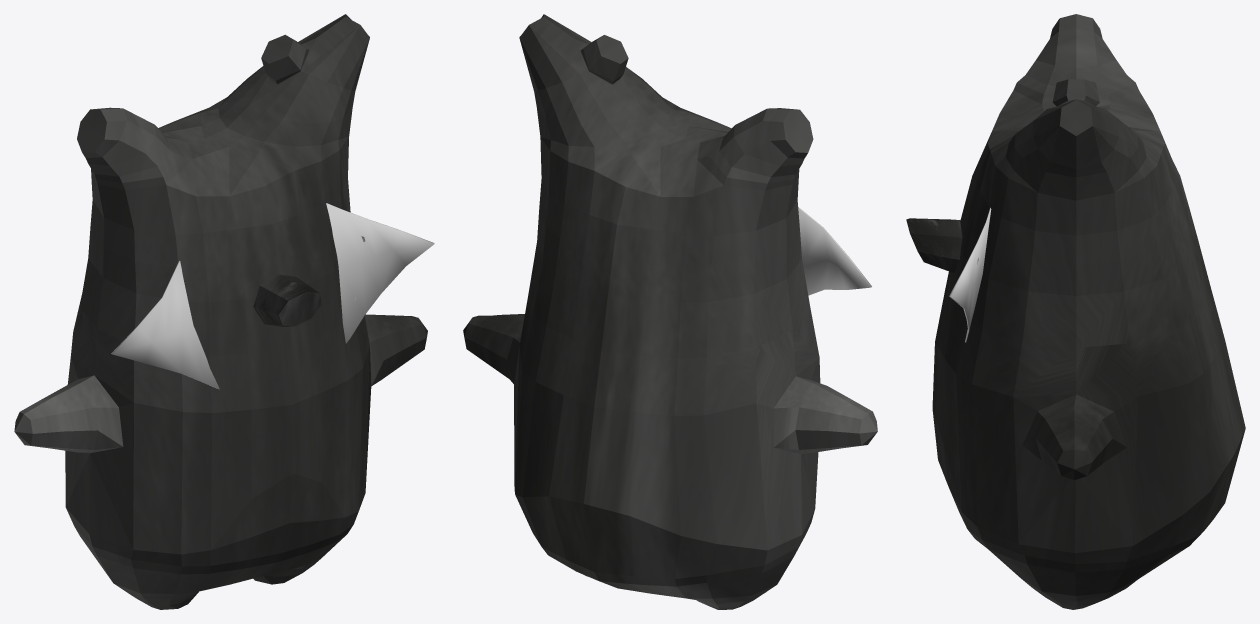
Rendered from frame_0001.obj.
The picture shows the model from 3 angles, left to right: view 1: azimuth 30°, elevation 25°; view 2: azimuth 150°, elevation 25°; view 3: azimuth 270°, elevation 25°; orthographic projection.
Parts seen in each view (by area): view 1: korok, leaf, nose; view 2: korok, leaf; view 3: korok, nose, leaf.
Part boxes in pixels (x1,y1,x2,y2): korok: [14, 14, 427, 609]; leaf: [111, 203, 434, 389]; nose: [253, 274, 321, 326]; korok: [463, 14, 877, 609]; leaf: [798, 207, 871, 295]; korok: [932, 14, 1245, 609]; nose: [906, 218, 962, 272]; leaf: [949, 207, 991, 342].
Size of the model in its own units: 1.8 by 2.28 by 1.29.
